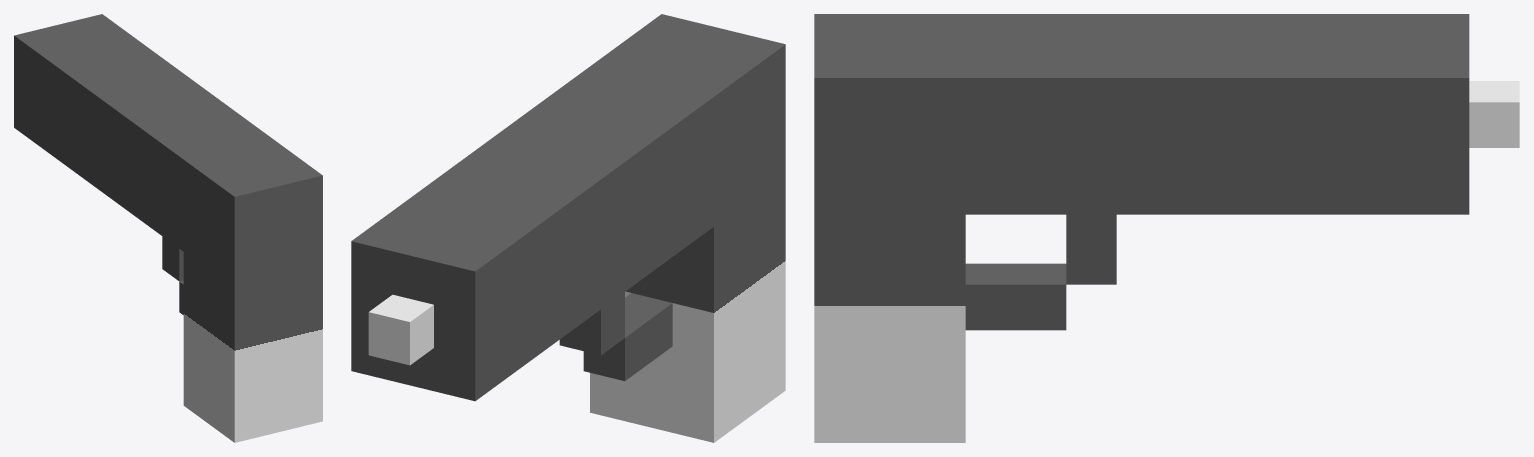
File: Pistol.fbx
3 views of the same model, side by side, from view 1: azimuth 30°, elevation 25°; view 2: azimuth 150°, elevation 25°; view 3: azimuth 270°, elevation 25° (orthographic). The views are drawn at different scales.
Visible parts, largest first — view 1: Matrix_1; view 2: Matrix_1; view 3: Matrix_1.
Part boxes in pixels (box(x1,y1,x2,y2)): Matrix_1: box(14, 14, 322, 442); Matrix_1: box(351, 14, 785, 442); Matrix_1: box(814, 14, 1519, 442).
Bounding box in the file's own units: 3 × 8 × 14.
